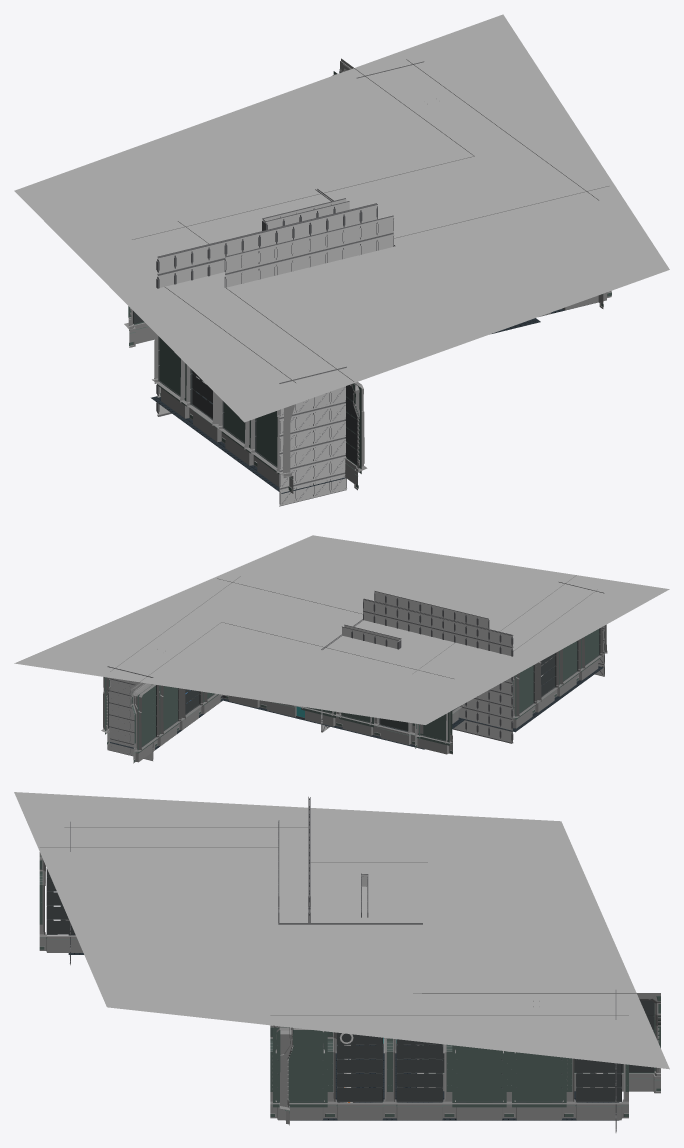
The model's file is Stage2 (5).fbx.
3 views of the same model, one above another, from view 1: azimuth 30°, elevation 25°; view 2: azimuth 150°, elevation 25°; view 3: azimuth 270°, elevation 25° (orthographic). The views are drawn at different scales.
Parts seen in each view (by area): view 1: Chunjang, Cube.026, BdDack; view 2: Chunjang, Cube.026, BdDack; view 3: Chunjang, Cube.026, BdDack.
Boxes of the visible parts, <box> form: Chunjang: <box>14,14,669,422</box>; Cube.026: <box>124,58,611,506</box>; BdDack: <box>151,305,587,493</box>; Chunjang: <box>14,535,669,724</box>; Cube.026: <box>101,575,607,763</box>; BdDack: <box>110,666,603,749</box>; Chunjang: <box>14,792,669,1069</box>; Cube.026: <box>39,796,660,1132</box>; BdDack: <box>68,934,618,1120</box>.
Size of the model in its own units: 61730 by 15372 by 61730.
